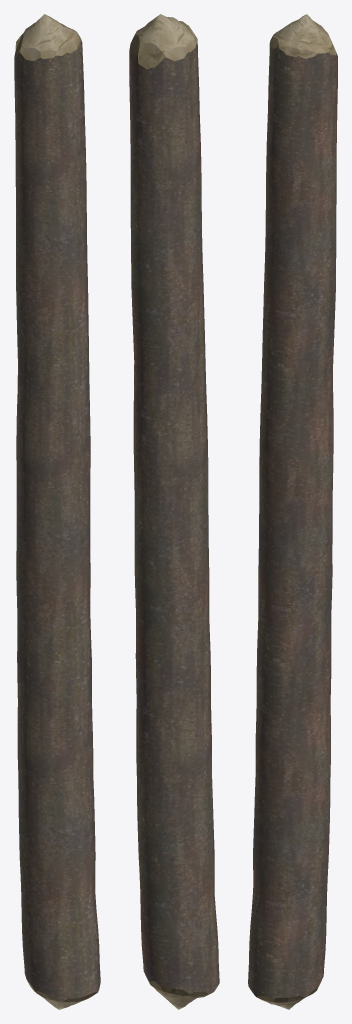
The picture shows the model from 3 angles, left to right: view 1: azimuth 90°, elevation 25°; view 2: azimuth 150°, elevation 25°; view 3: azimuth 330°, elevation 25°; orthographic projection.
Visible parts, largest first — view 1: SM_BM_Ash_Tree_03_tree_quarters_top_LOD0; view 2: SM_BM_Ash_Tree_03_tree_quarters_top_LOD0; view 3: SM_BM_Ash_Tree_03_tree_quarters_top_LOD0.
Part boxes in pixels (bbox=[...]): SM_BM_Ash_Tree_03_tree_quarters_top_LOD0: bbox=[14, 14, 100, 1009]; SM_BM_Ash_Tree_03_tree_quarters_top_LOD0: bbox=[129, 14, 219, 1009]; SM_BM_Ash_Tree_03_tree_quarters_top_LOD0: bbox=[248, 14, 337, 1009].
Size of the model in its own units: 0.5203 by 6.77 by 0.536.
Materials: 1 (1 with a texture image).
